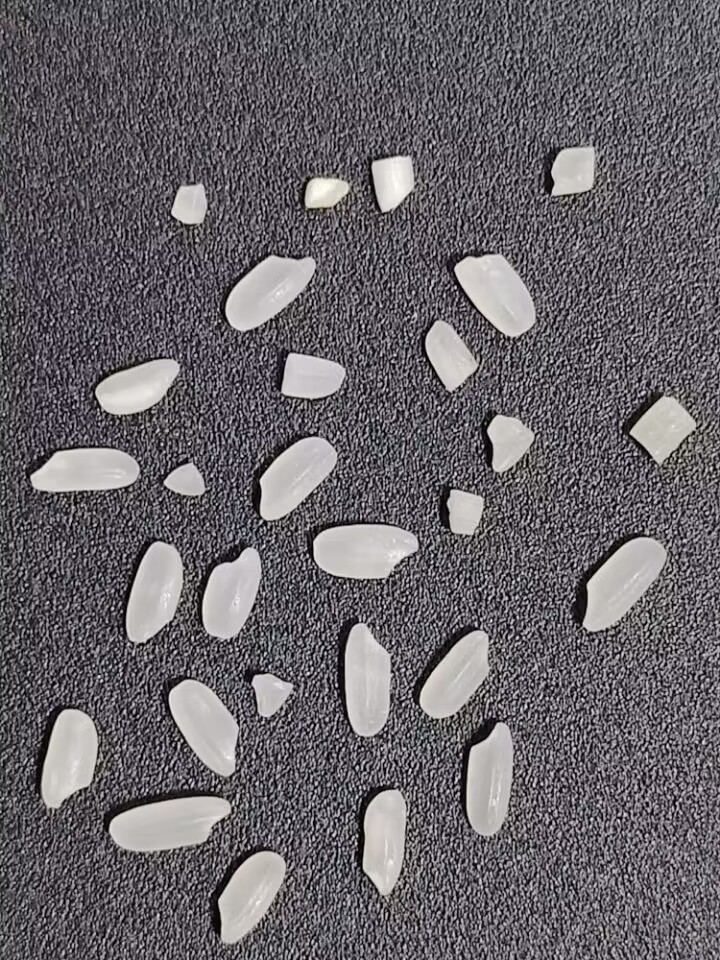broken: (628, 392, 699, 467), (422, 318, 481, 392), (479, 410, 539, 474), (278, 351, 347, 401), (370, 153, 418, 214), (546, 144, 599, 197), (249, 668, 294, 722), (444, 484, 487, 537), (169, 178, 211, 227), (301, 172, 353, 211), (161, 458, 210, 498)
rice: (579, 536, 668, 634), (163, 677, 245, 783), (419, 624, 505, 720), (222, 251, 320, 333), (106, 793, 234, 853), (450, 252, 538, 339), (305, 520, 425, 583), (215, 847, 289, 949), (257, 434, 341, 523), (124, 538, 186, 645), (200, 543, 262, 643), (341, 620, 392, 738), (27, 445, 145, 496), (40, 707, 98, 810), (94, 353, 183, 418), (465, 721, 513, 837), (361, 786, 408, 899)
